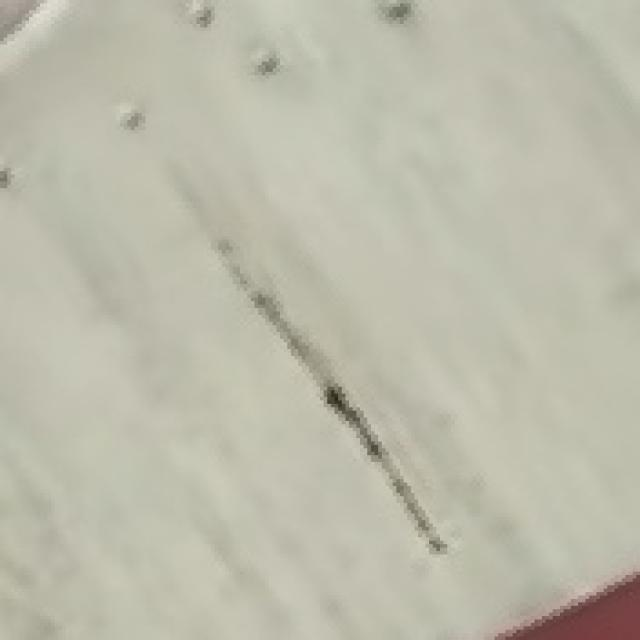crack: (175, 254, 488, 579)
